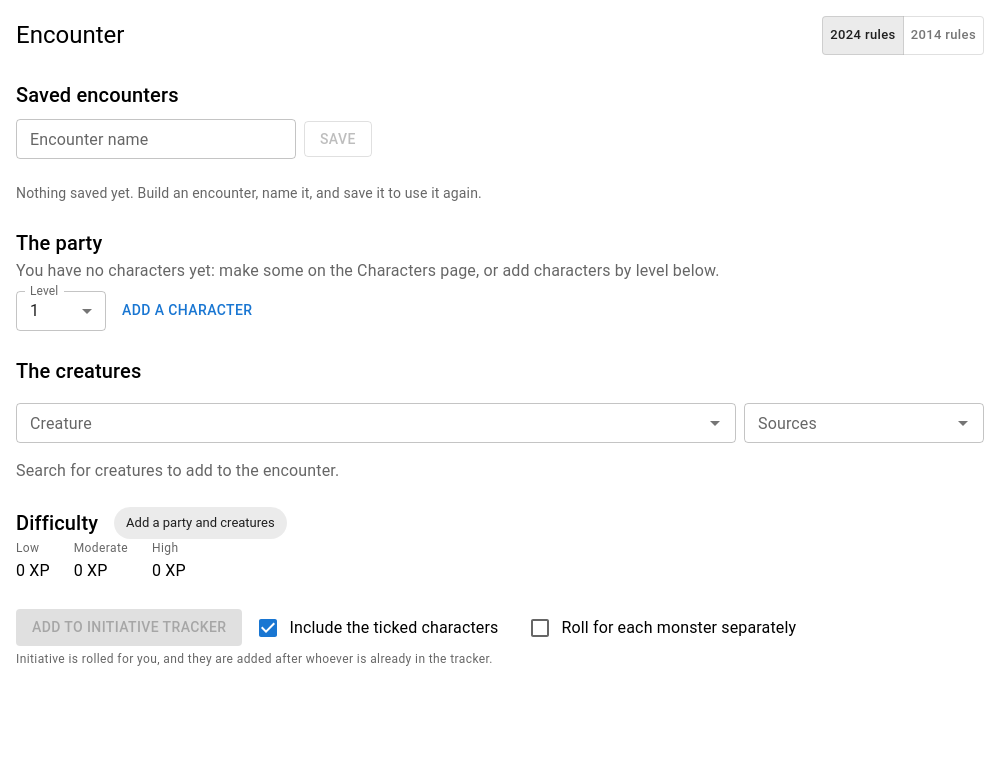
it: how hard it is › counts characters added by level
Expected: the text "You have no characters yet" is shown, [16,261,720,280]
Select "5" in the dropdown named "Level of the character to add" at [61, 311], box [16,291,106,331]
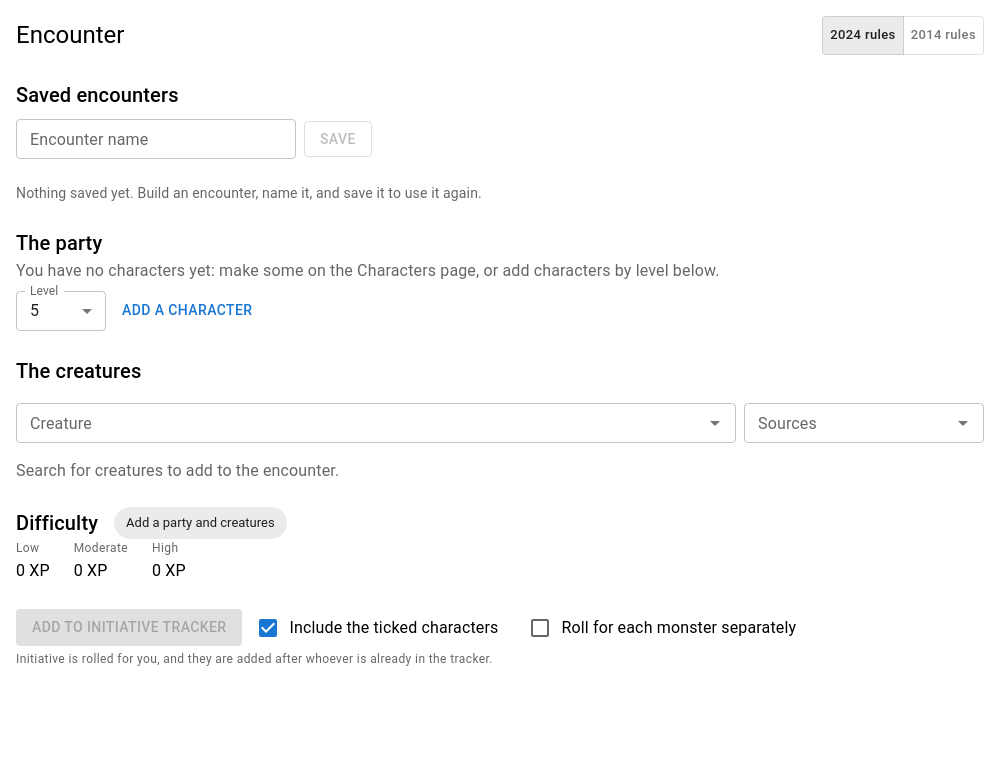
Click the button "Add a character".
click(187, 311)  # box [114,292,260,329]
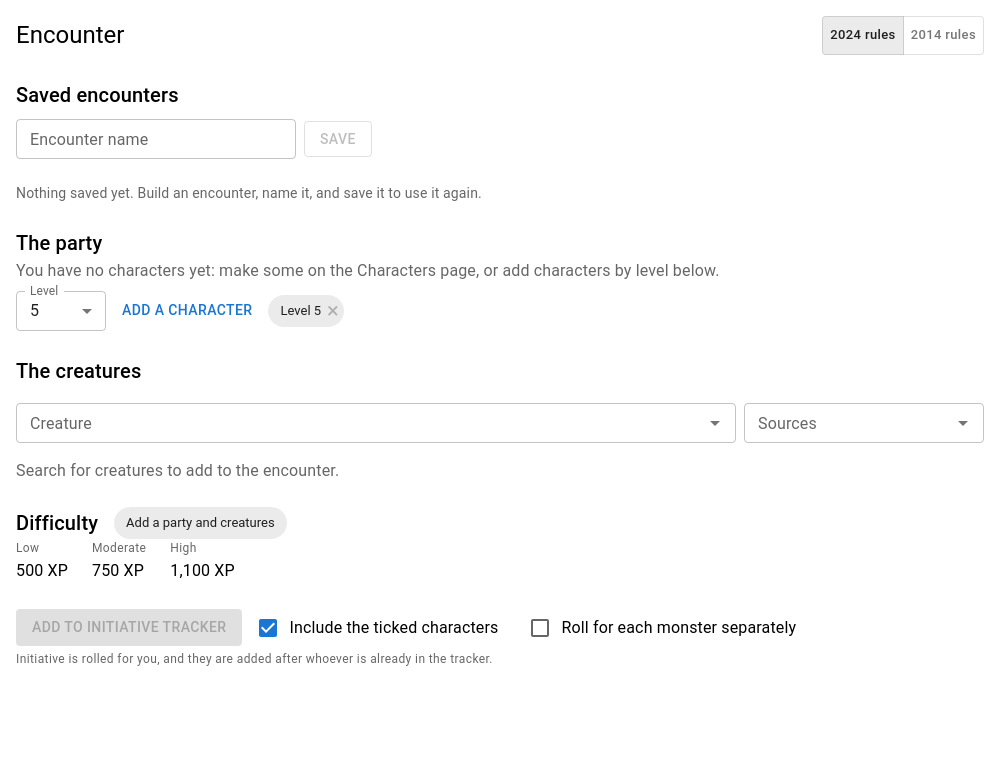
Type "Ogre" into the dropdown labelled "Creature".
click(360, 423); type("Ogre")  # box [22,409,697,437]
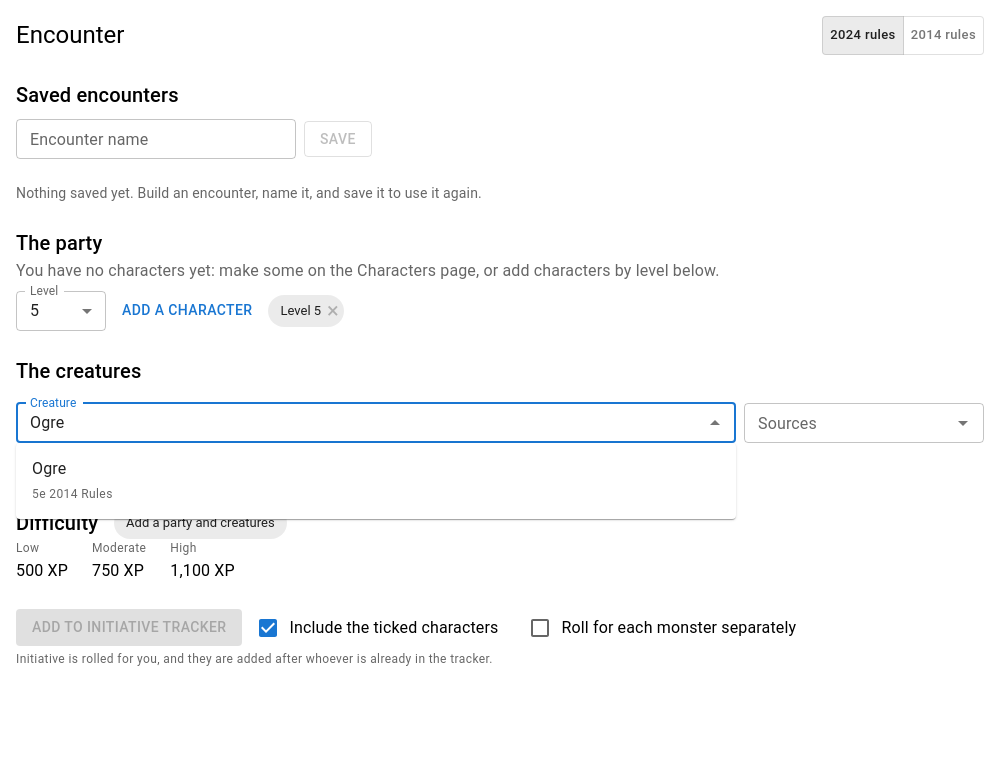
Result: the option "Ogre 5e 2014 Rules" is shown
Click the option "Ogre 5e 2014 Rules".
click(49, 468)  # box [32,459,113,501]
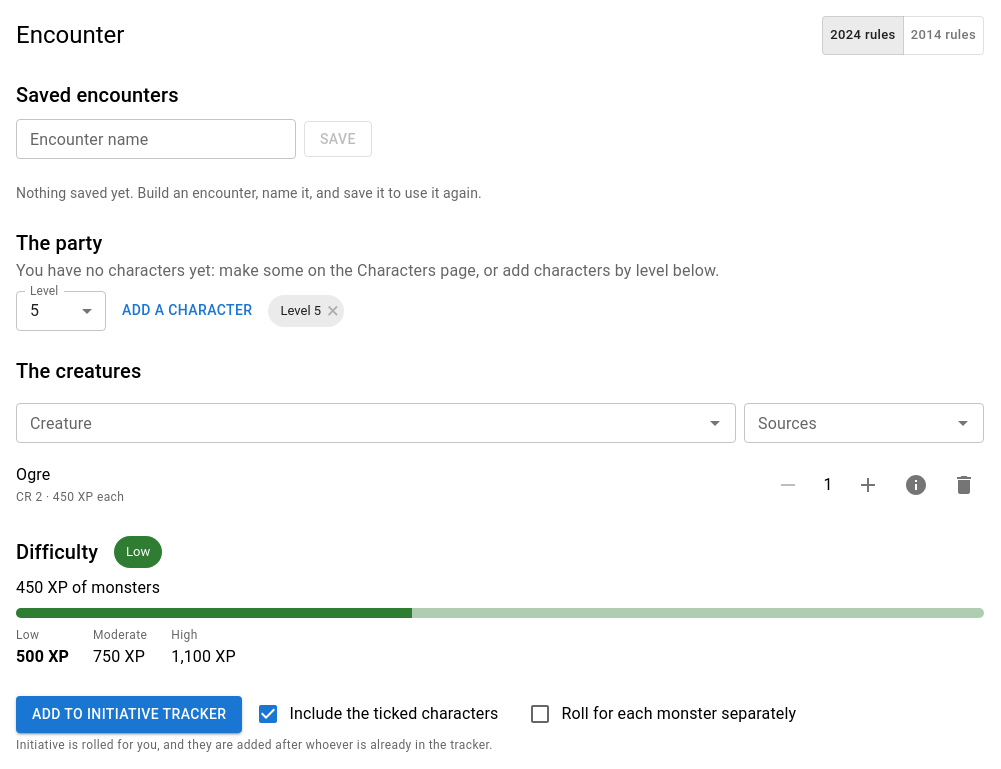
Result: the text "750 XP" is shown at [93,646,147,670]
Result: the text "Level 5" is shown at [280,303,321,318]
Result: the message reads "Low" at [126,544,150,559]
Click the icon named "Remove the level 5 character".
click(333, 311)  # box [327,298,339,323]
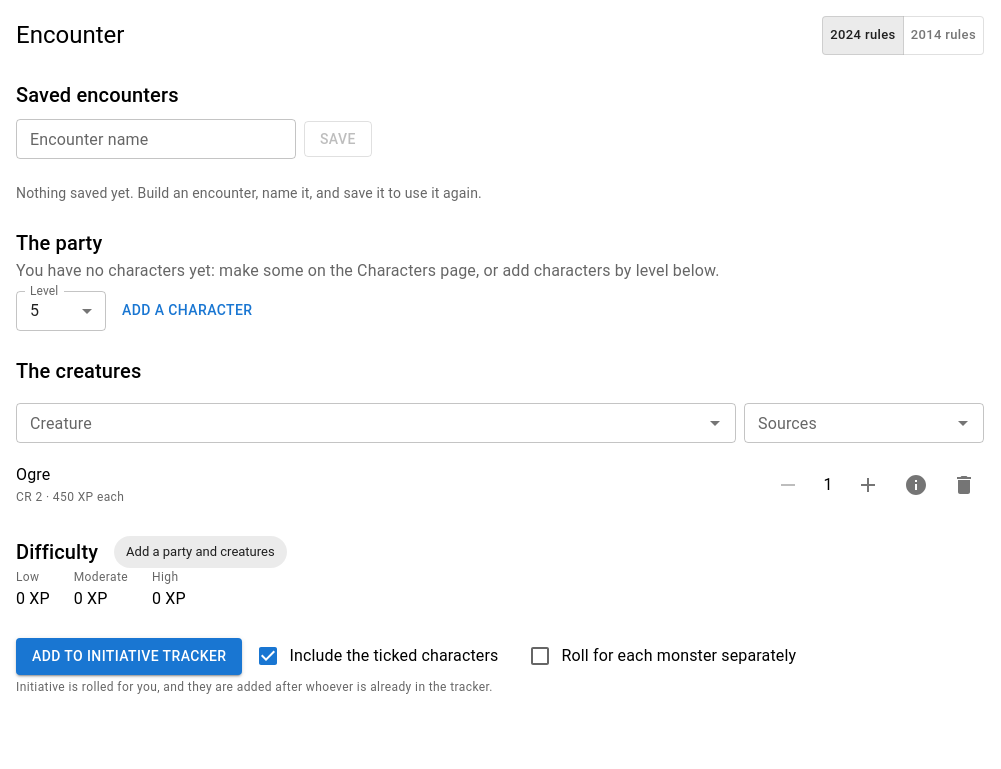
Result: the text "Add a party and creatures" is shown at [114,544,287,559]
